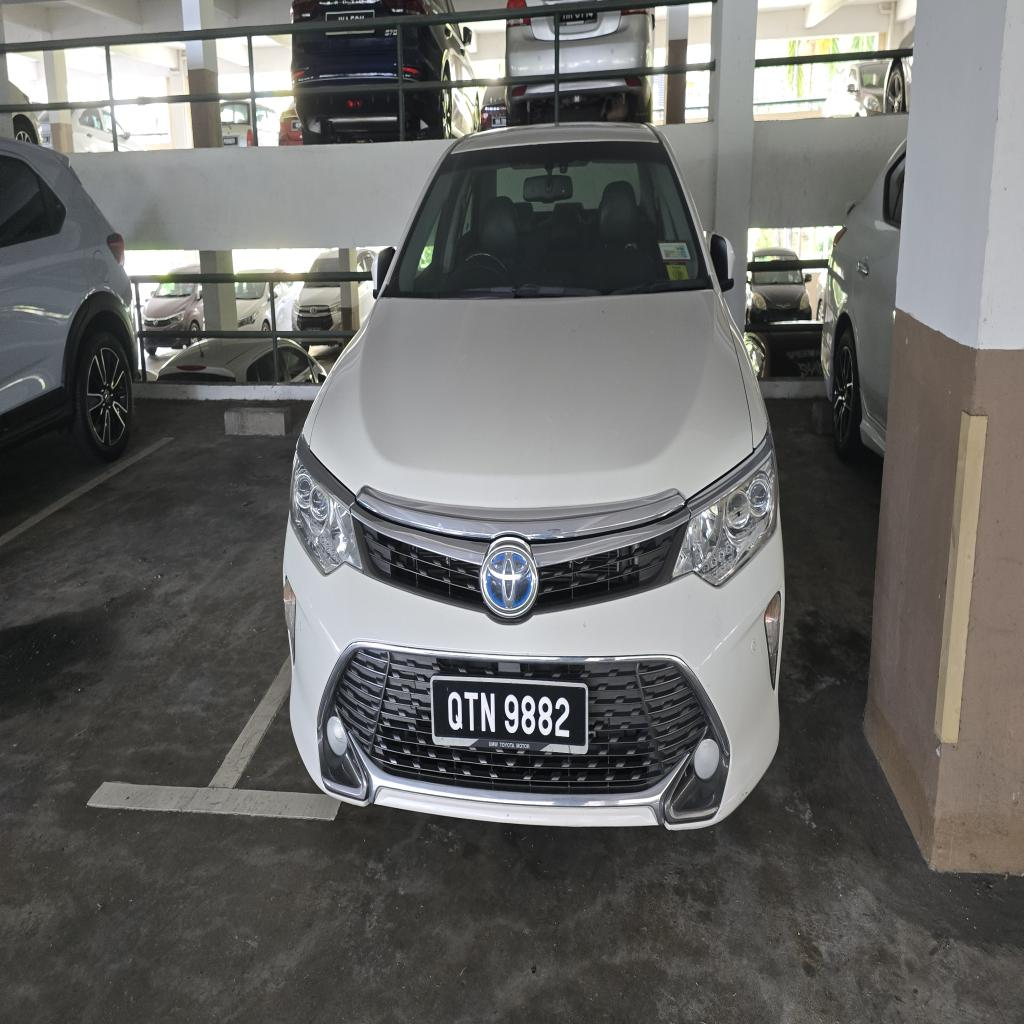car: (284, 124, 784, 828)
car plate: (432, 676, 588, 753)
